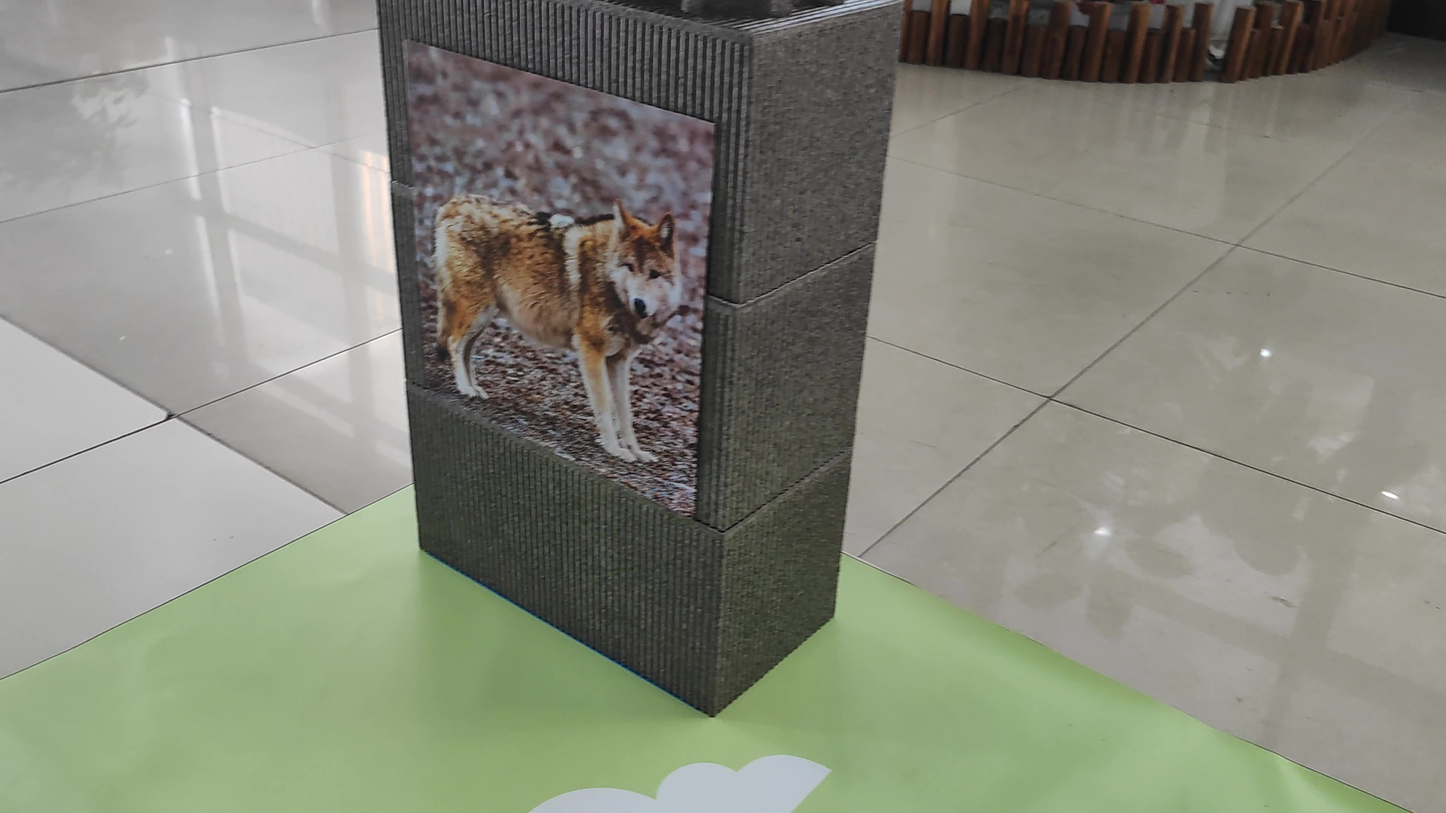wolf: (430, 168, 695, 482)
